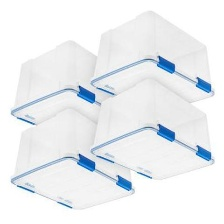plastic_box: (3, 102, 140, 216), (84, 73, 218, 187), (85, 6, 218, 111), (5, 35, 121, 131)
